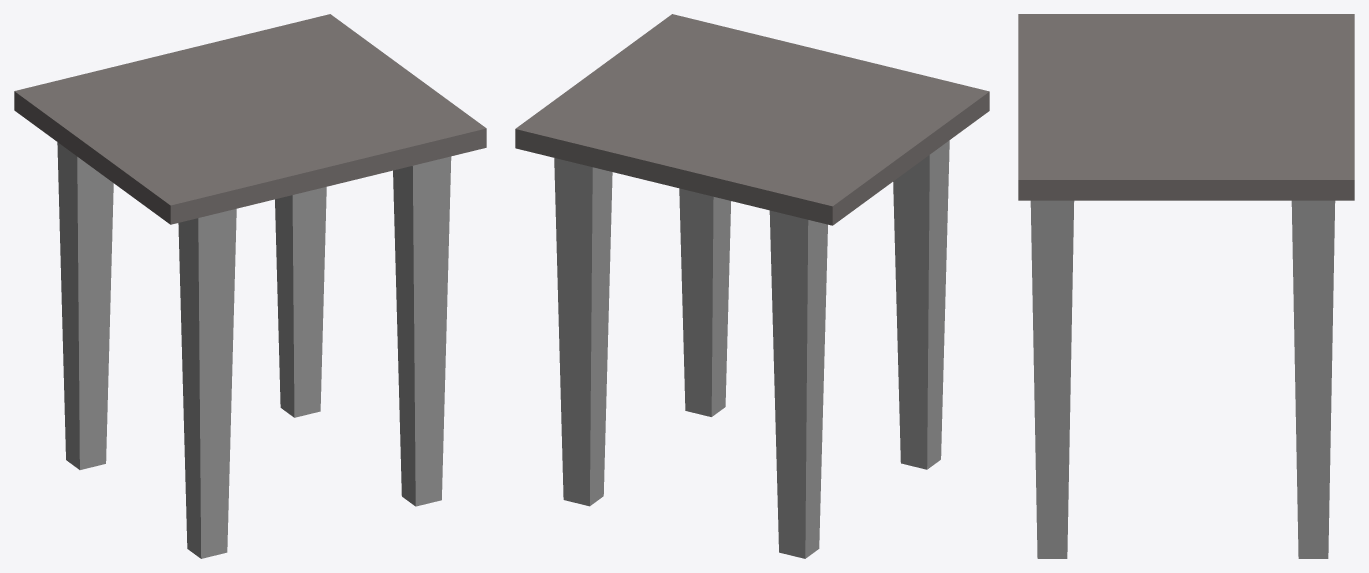
Rendered from SM_Chairs_06.fbx.
3 views of the same model, side by side, from view 1: azimuth 30°, elevation 25°; view 2: azimuth 150°, elevation 25°; view 3: azimuth 270°, elevation 25° (orthographic). The views are drawn at different scales.
Parts seen in each view (by area): view 1: SM_Chairs_06; view 2: SM_Chairs_06; view 3: SM_Chairs_06.
Part boxes in pixels (<box>): SM_Chairs_06: <box>14,14,486,558</box>; SM_Chairs_06: <box>515,14,989,558</box>; SM_Chairs_06: <box>1018,14,1354,558</box>.
Bounding box in the file's own units: 52.39 × 58.54 × 44.88.
Materials: 1 (1 with a texture image).
